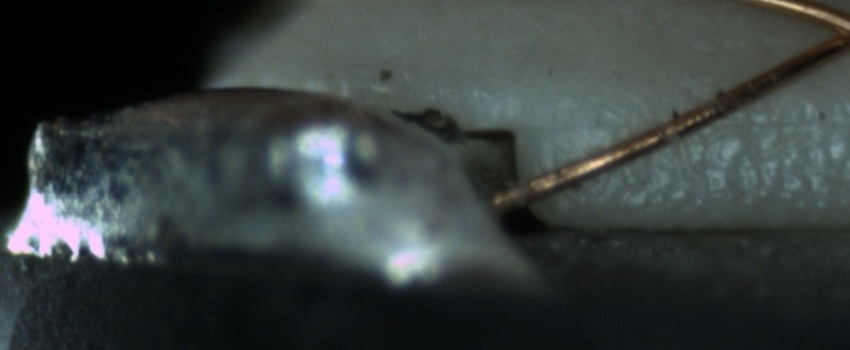CL: (801, 4, 850, 64)
DL: (548, 92, 850, 155)
